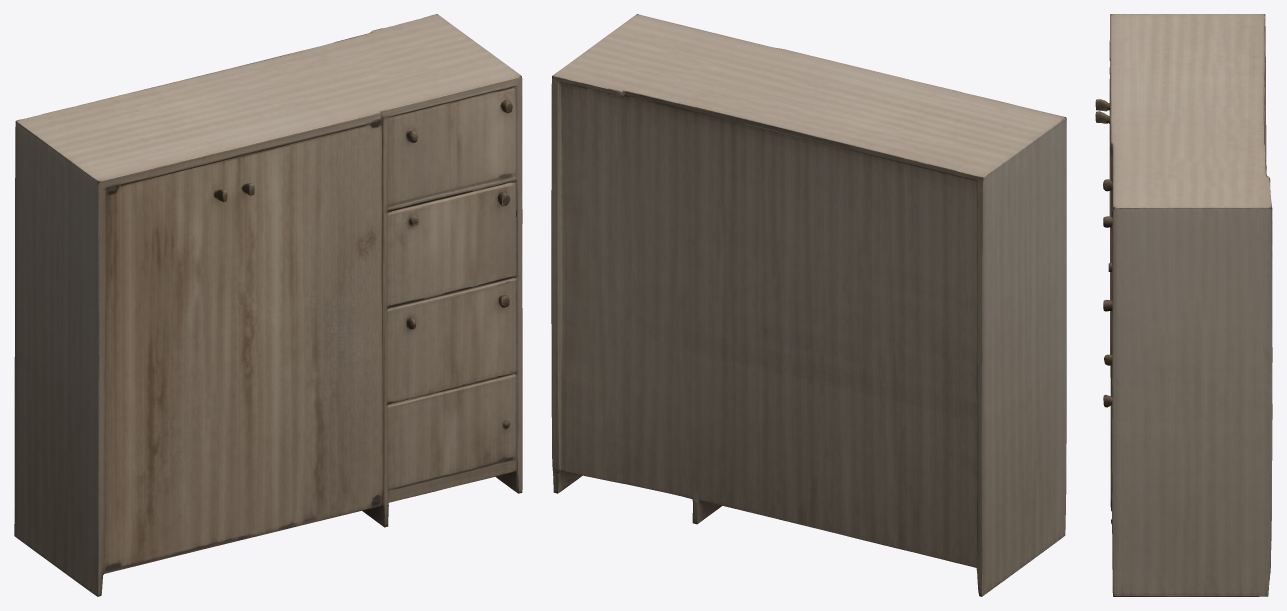
The model's file is mw515j_cabinet_2door_3_shelf_with_doo.glb.
3 views of the same model, side by side, from view 1: azimuth 30°, elevation 25°; view 2: azimuth 150°, elevation 25°; view 3: azimuth 270°, elevation 25° (orthographic). The views are drawn at different scales.
Parts seen in each view (by area): view 1: world; view 2: world; view 3: world.
Boxes of the visible parts, x1,y1,x2,y2 form: world: (14, 14, 522, 596); world: (551, 14, 1066, 596); world: (1095, 14, 1272, 596).
Size of the model in its own units: 1 by 0.9355 by 0.3849.
1 material, 1 textured.
